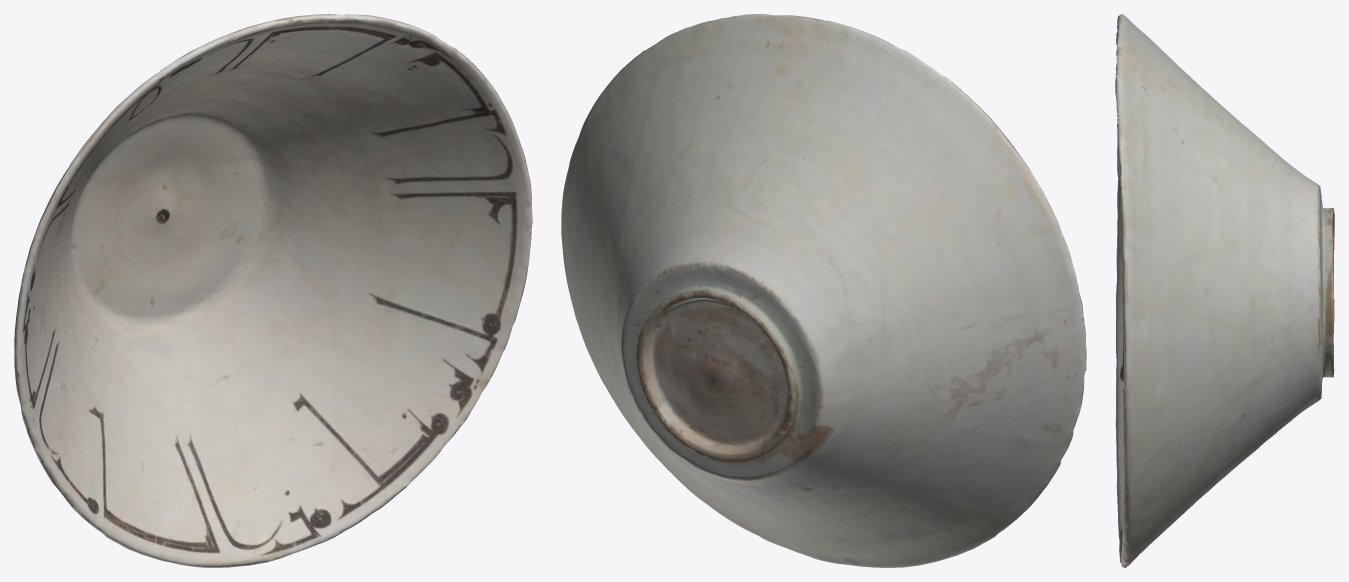
The model's file is preview.glb.
3 renders of one model, left to right at view 1: azimuth 30°, elevation 25°; view 2: azimuth 150°, elevation 25°; view 3: azimuth 270°, elevation 25°, orthographic. The views are drawn at different scales.
Visible parts, largest first — view 1: ADVIMG_65_106_2_BowlWithArabicInscription_LOW__n3d; view 2: ADVIMG_65_106_2_BowlWithArabicInscription_LOW__n3d; view 3: ADVIMG_65_106_2_BowlWithArabicInscription_LOW__n3d.
Part boxes in pixels (x1,y1,x2,y2): ADVIMG_65_106_2_BowlWithArabicInscription_LOW__n3d: (14, 14, 532, 567); ADVIMG_65_106_2_BowlWithArabicInscription_LOW__n3d: (561, 14, 1086, 567); ADVIMG_65_106_2_BowlWithArabicInscription_LOW__n3d: (1115, 14, 1334, 567).
Size of the model in its own units: 0.4593 by 0.4553 by 0.1812.
Materials: 1 (1 with a texture image).
